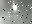person: (11, 3, 20, 16)
